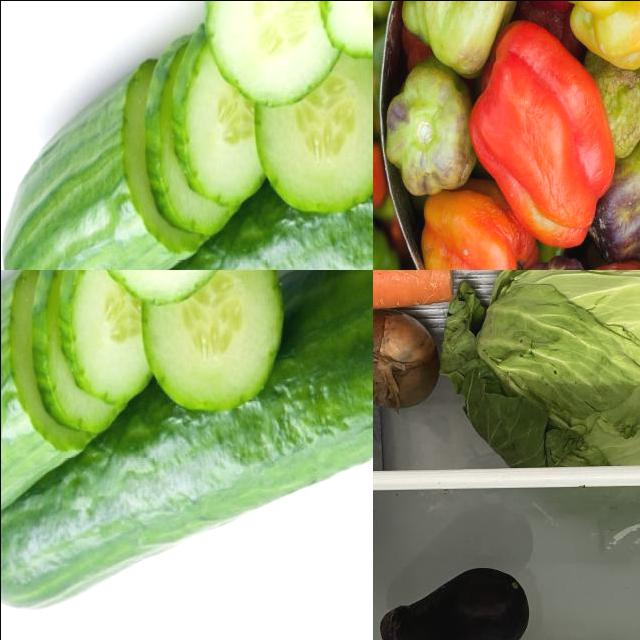bell_pepper: (471, 32, 623, 260), (391, 68, 473, 206), (414, 1, 523, 81), (416, 184, 517, 270)
cabbage: (434, 270, 640, 467)
carrot: (373, 270, 458, 313)
cucumber: (1, 270, 373, 605), (54, 39, 373, 270), (1, 64, 229, 270), (1, 270, 116, 524), (250, 46, 373, 215), (137, 270, 282, 413), (172, 21, 262, 211), (60, 270, 150, 409), (200, 1, 344, 87)
eggplant: (377, 564, 532, 640)
onion: (373, 308, 442, 413)
